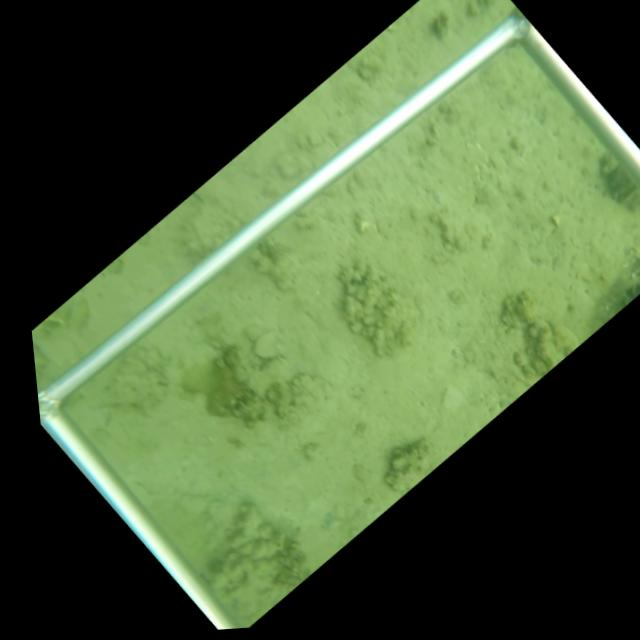Oyster-Indeterminate: (253, 326, 278, 359)
